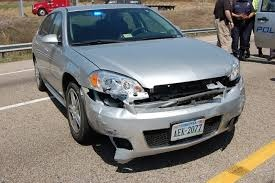Smashed: (76, 80, 245, 160)
